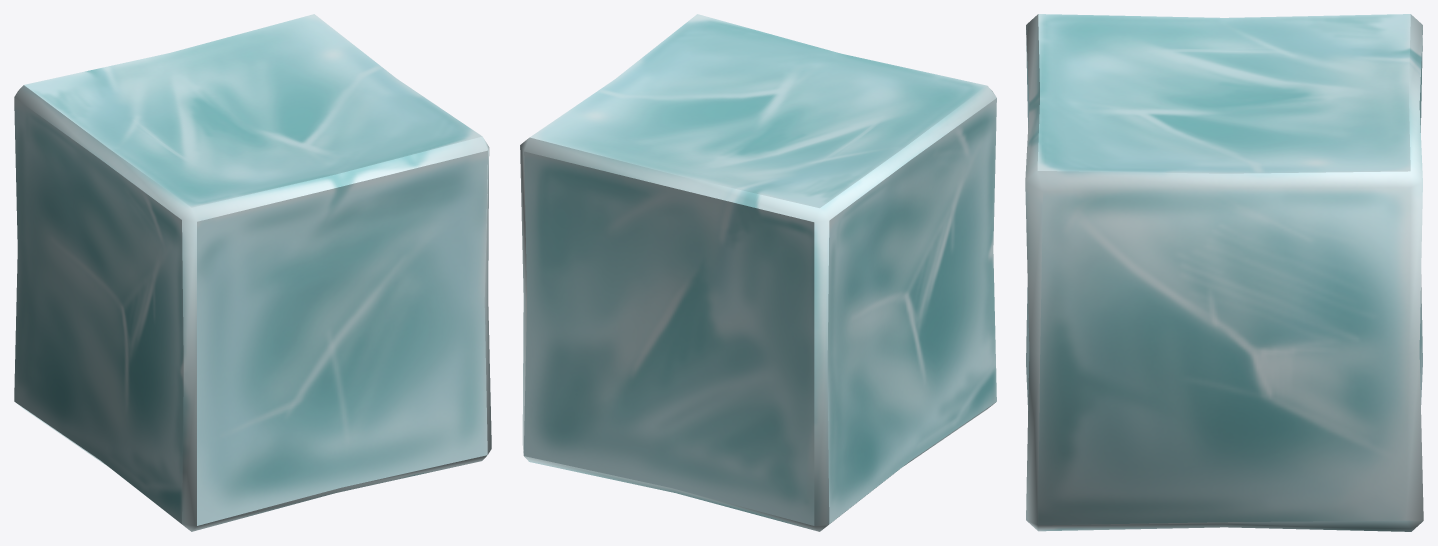
Rendered from ENV1810014.fbx.
3 renders of one model, left to right at view 1: azimuth 30°, elevation 25°; view 2: azimuth 150°, elevation 25°; view 3: azimuth 270°, elevation 25°, orthographic. The views are drawn at different scales.
Visible parts, largest first — view 1: smENV1810014; view 2: smENV1810014; view 3: smENV1810014.
Boxes of the visible parts, bbox=[...] form: smENV1810014: bbox=[14, 14, 491, 531]; smENV1810014: bbox=[520, 14, 996, 531]; smENV1810014: bbox=[1025, 14, 1423, 531].
Bounding box in the file's own units: 5.14 × 5.16 × 5.16.
Materials: 1 (1 with a texture image).
